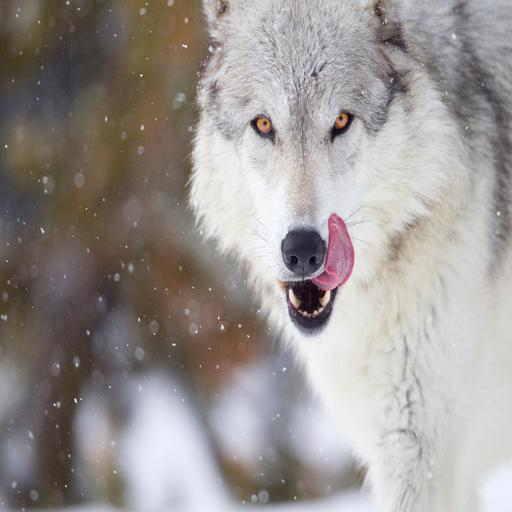Wolf: (182, 0, 512, 512)
